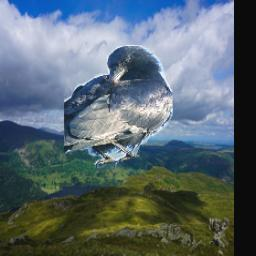Crow: (65, 46, 174, 169)
